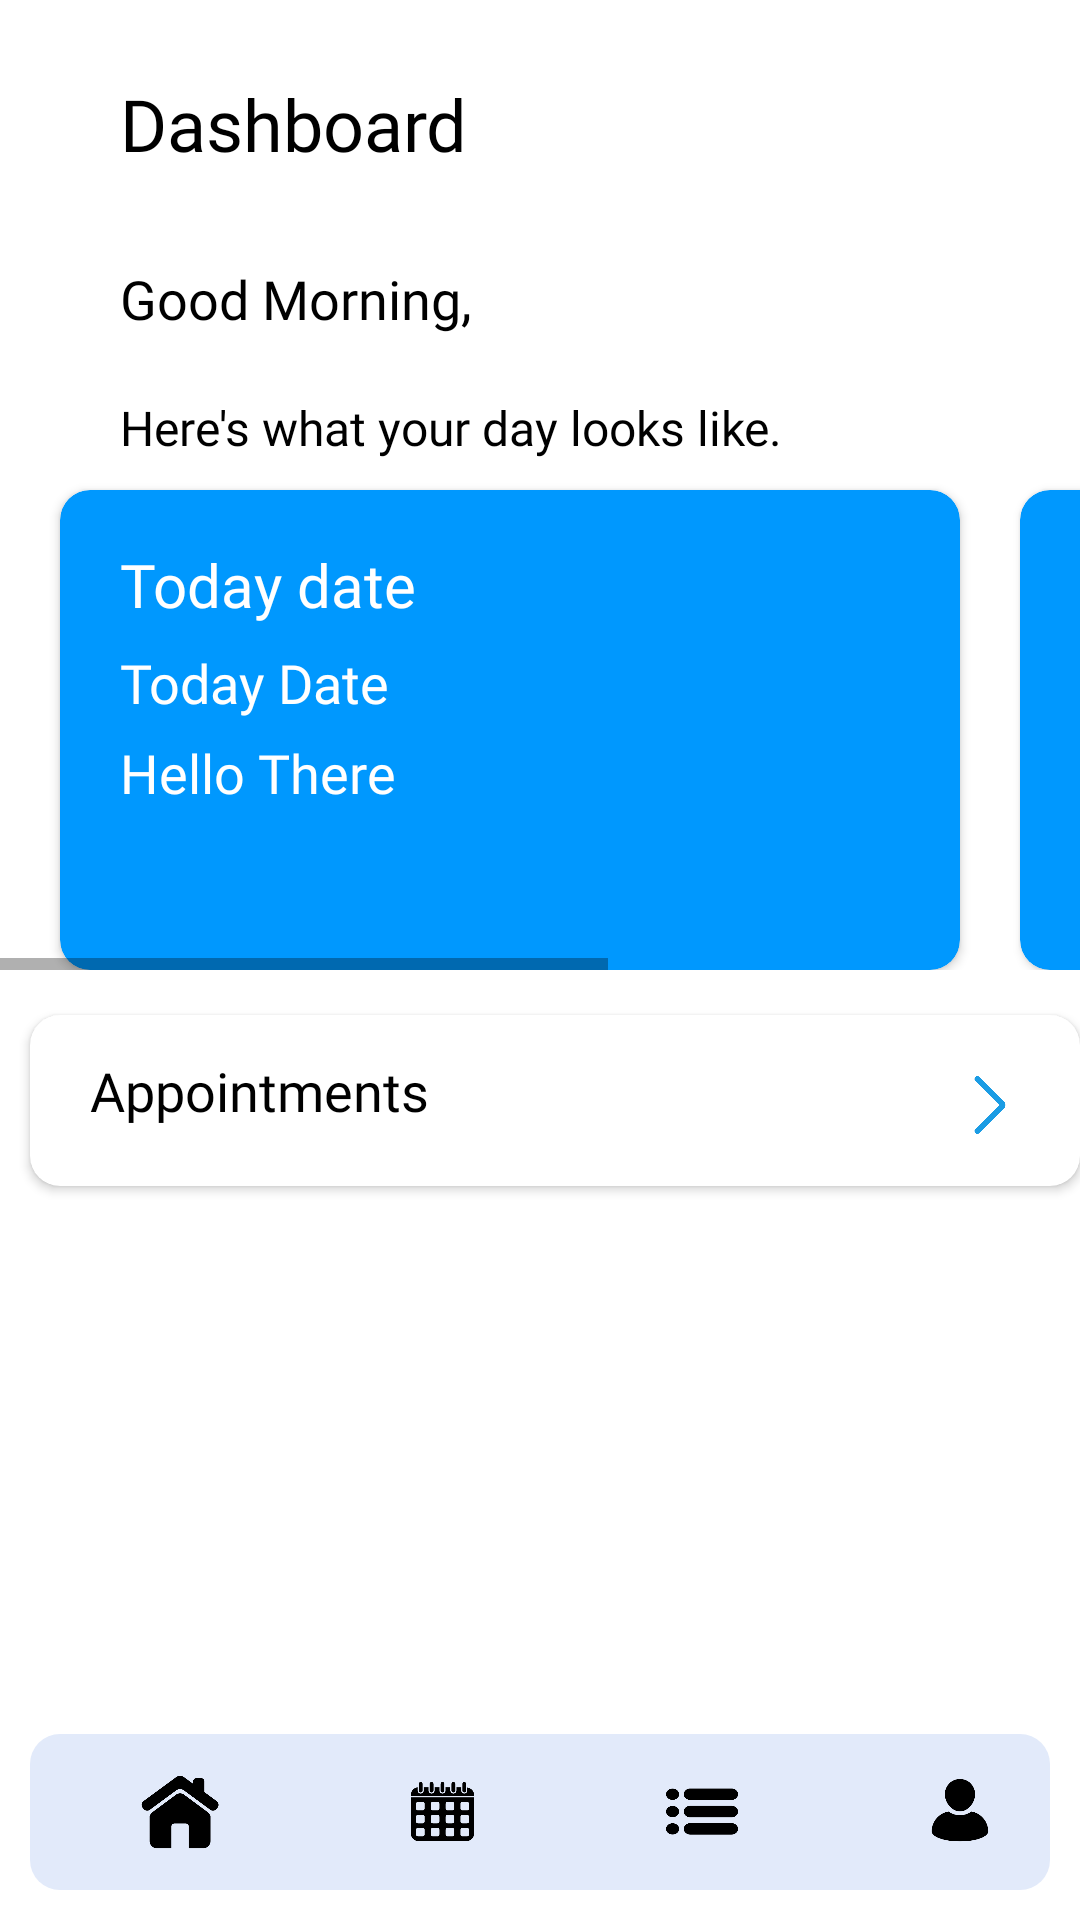

Named icons in this screenshot (1080 x 1920) and their bounding boxes, (x1, y1, x2, y2):
appointment: (411, 1782, 474, 1841)
arrow right: (974, 1076, 1006, 1134)
home: (141, 1776, 219, 1848)
option: (666, 1788, 738, 1835)
profile: (931, 1779, 988, 1841)
